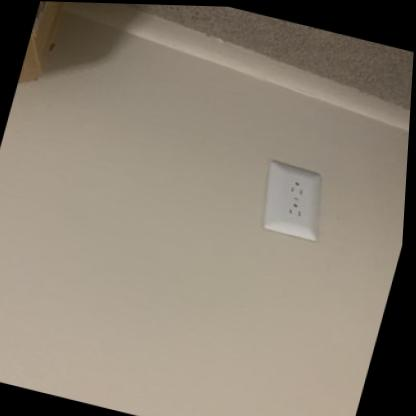OUTLET: (250, 159, 337, 244)
